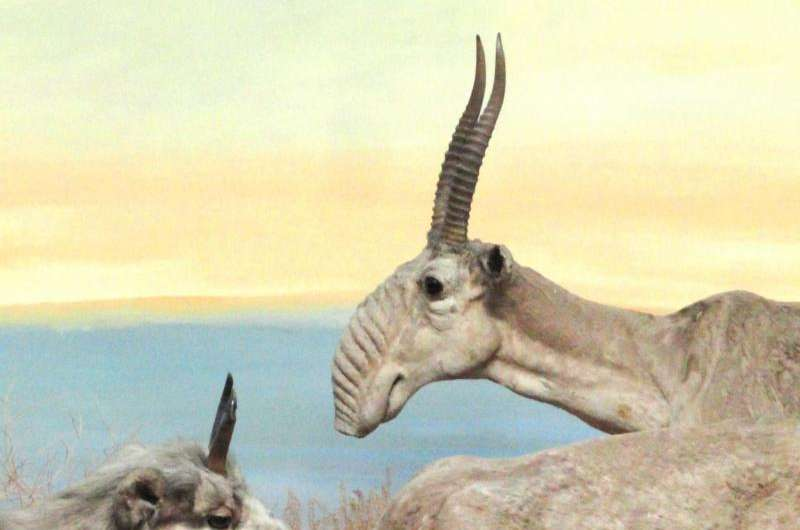saiga: (330, 31, 800, 451)
